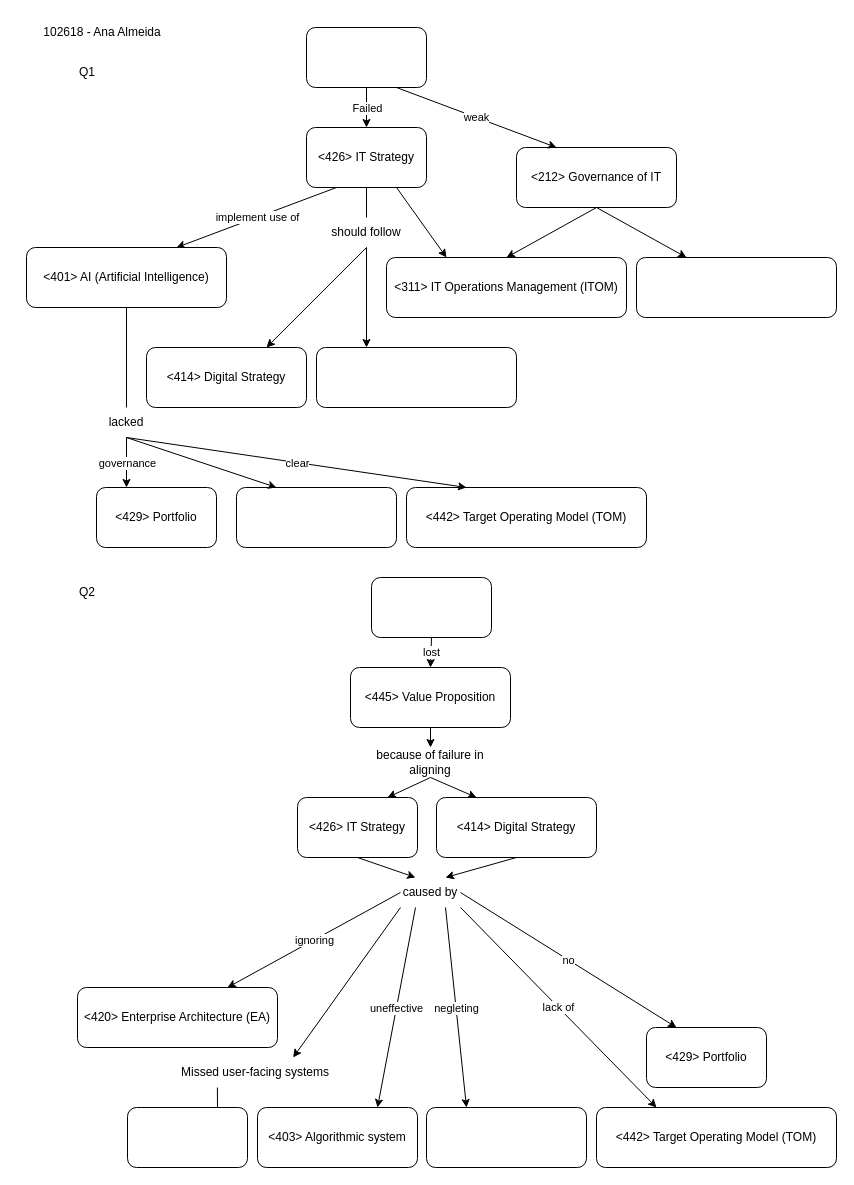
Image size: 854x1185. Some labels were removed from this diagram. Each missing label, with the centre of its shape:
"<406> Capability-Based Planning" goes at [416,377].
"<421> Executive Sponsorship" goes at [736,287].
"<422> Explainability" goes at [187,1137].
"<423> Human-in-the-loop" goes at [506,1137].
"Sonos" goes at [431,607].
"Stakeholder engagement" goes at [316,517].
"VisioRetail AI Misfire" goes at [366,57].
